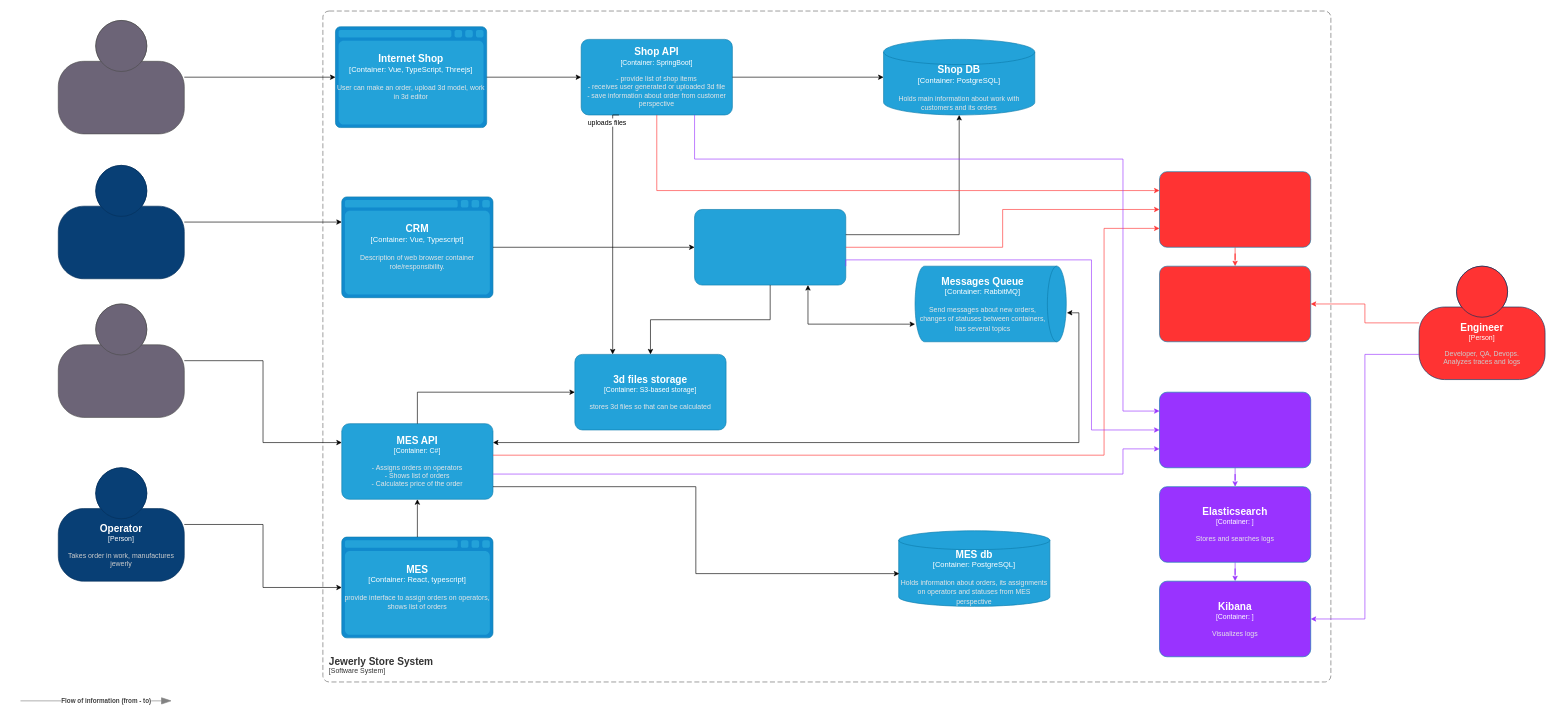
This 1556x722 diagram has some shape labels left out. The shapes that lost their labels are listed below. From the top down, each one's box as (x1, y1, x2, y2) in pixels, then its label:
(58, 20, 184, 134): Customer [Person] Description of external person.
(58, 165, 184, 279): Seller [Person] Operates with order, confirms manufacturing for the user
(1159, 171, 1311, 247): OpenTelemetry Collector [Container: ] Collects and processes traces
(694, 209, 846, 285): CRM API [Container: SpringBoot] Description of container role/responsibility.
(1159, 266, 1311, 342): Jaeger [Container: ] Stores and visualizes traces
(58, 303, 184, 417): API user [Person] Description of external person.
(1159, 392, 1311, 468): Logstash [Container: ] Collects and processes logs
